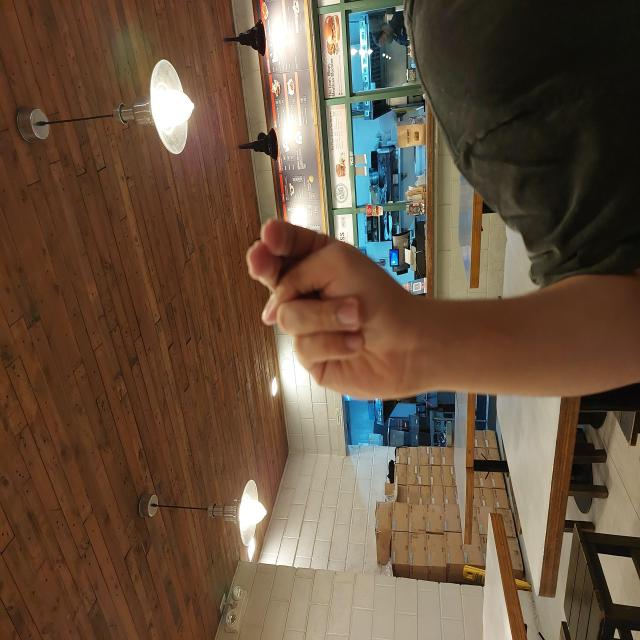N: (238, 243, 423, 419)
